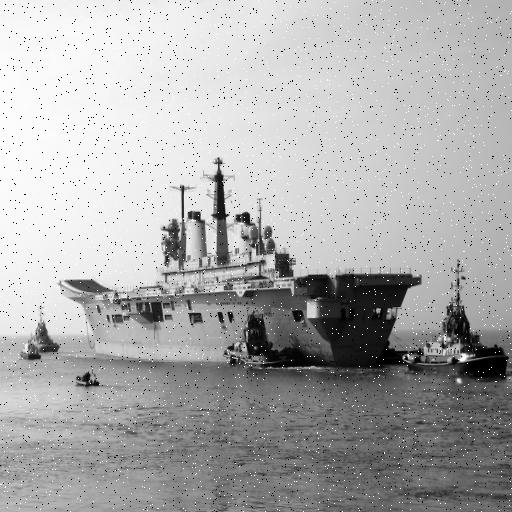Portanaves: (58, 151, 429, 373)
